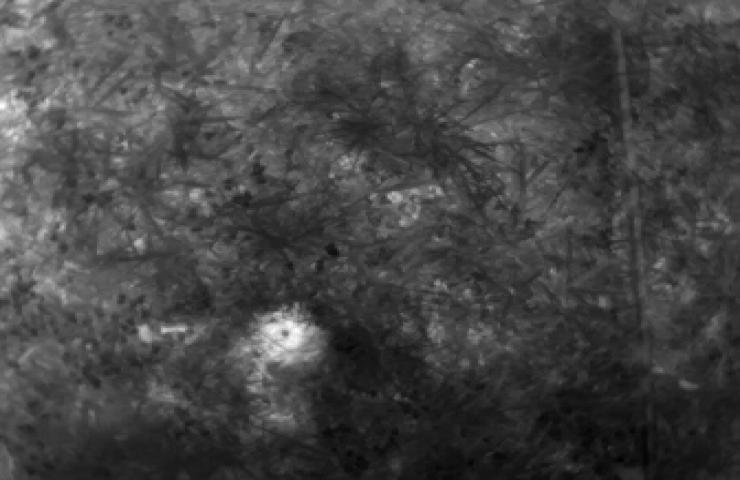landmines: (254, 310, 319, 368)
